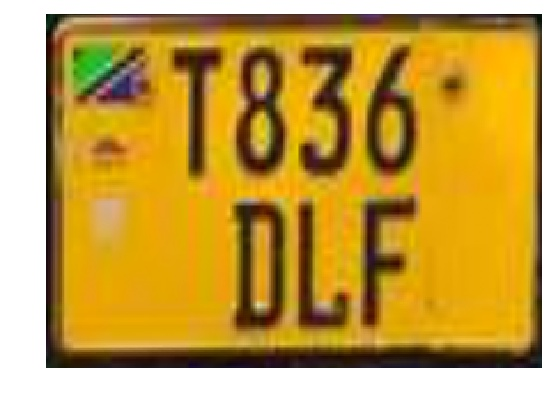T: (159, 38, 230, 184)
